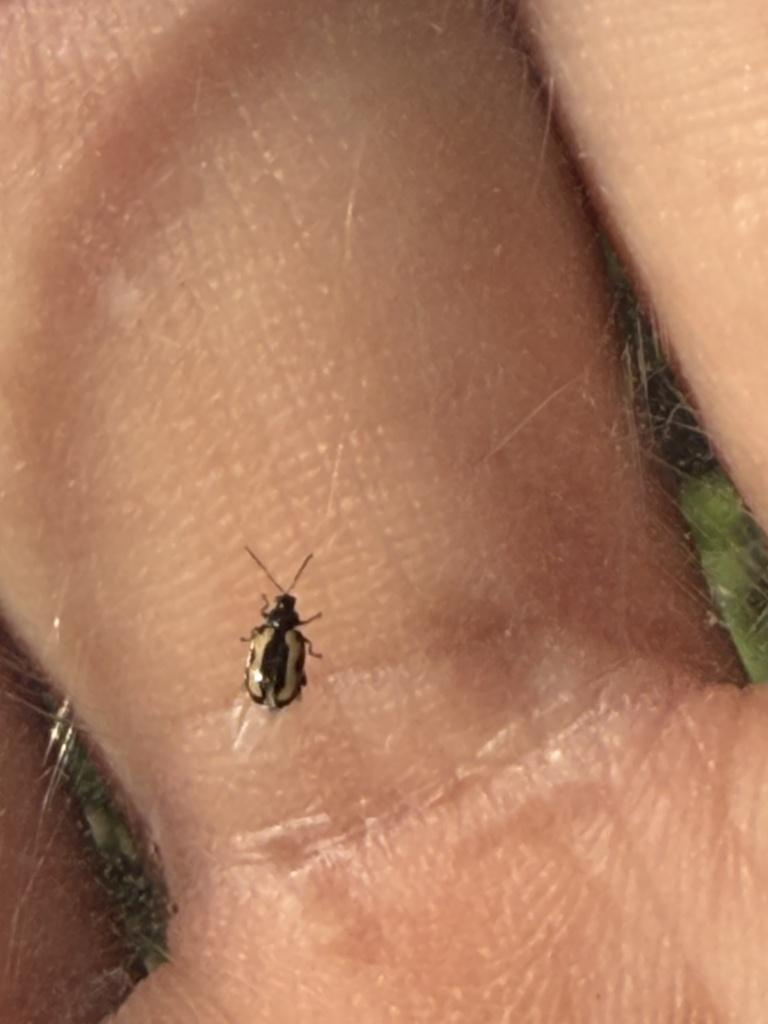flea_beetle: (180, 504, 382, 740)
